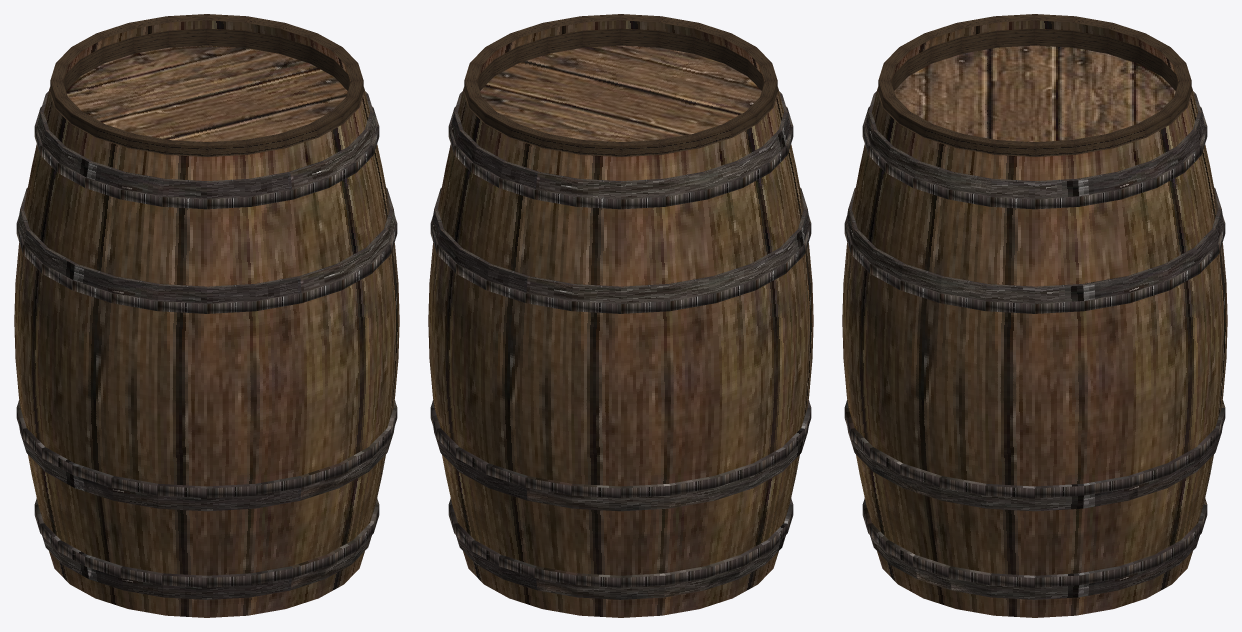
File: barrel_oak.glb
The picture shows the model from 3 angles, left to right: view 1: azimuth 30°, elevation 25°; view 2: azimuth 150°, elevation 25°; view 3: azimuth 270°, elevation 25°; orthographic projection.
Visible parts, largest first — view 1: body, piece_09, piece_05, piece_08, piece_10, piece_06, piece_00, piece_04, piece_07, piece_11; view 2: body, piece_06, piece_08, piece_07, piece_03, piece_10, piece_02, piece_04, piece_09, piece_11, piece_12; view 3: body, piece_01, piece_06, piece_11, piece_08, piece_10, piece_02, piece_00, piece_09, piece_07, piece_12.
Boxes of the visible parts, bbox=[...] form: body: bbox=[14, 28, 399, 617]; piece_09: bbox=[105, 120, 324, 407]; piece_05: bbox=[93, 379, 326, 608]; piece_08: bbox=[16, 62, 225, 404]; piece_10: bbox=[227, 69, 397, 365]; piece_06: bbox=[107, 14, 317, 95]; piece_00: bbox=[308, 323, 396, 601]; piece_04: bbox=[15, 355, 103, 598]; piece_07: bbox=[26, 30, 166, 195]; piece_11: bbox=[279, 33, 397, 275]; body: bbox=[428, 28, 813, 617]; piece_06: bbox=[428, 63, 606, 424]; piece_08: bbox=[609, 66, 811, 425]; piece_07: bbox=[552, 126, 710, 435]; piece_03: bbox=[551, 425, 720, 614]; piece_10: bbox=[523, 14, 679, 93]; piece_02: bbox=[428, 324, 557, 608]; piece_04: bbox=[711, 361, 808, 597]; piece_09: bbox=[637, 19, 809, 219]; piece_11: bbox=[438, 29, 569, 199]; piece_12: bbox=[571, 93, 635, 124]; body: bbox=[842, 28, 1227, 617]; piece_01: bbox=[919, 382, 1140, 614]; piece_06: bbox=[1031, 68, 1227, 394]; piece_11: bbox=[934, 133, 1126, 394]; piece_08: bbox=[931, 14, 1146, 107]; piece_10: bbox=[848, 88, 1030, 370]; piece_02: bbox=[1127, 350, 1226, 600]; piece_00: bbox=[846, 342, 927, 597]; piece_09: bbox=[843, 31, 998, 280]; piece_07: bbox=[1080, 34, 1203, 114]; piece_12: bbox=[1000, 104, 1073, 132].
Bounding box in the file's own units: 0.72 × 0.9711 × 0.72.
Materials: 1 (1 with a texture image).
